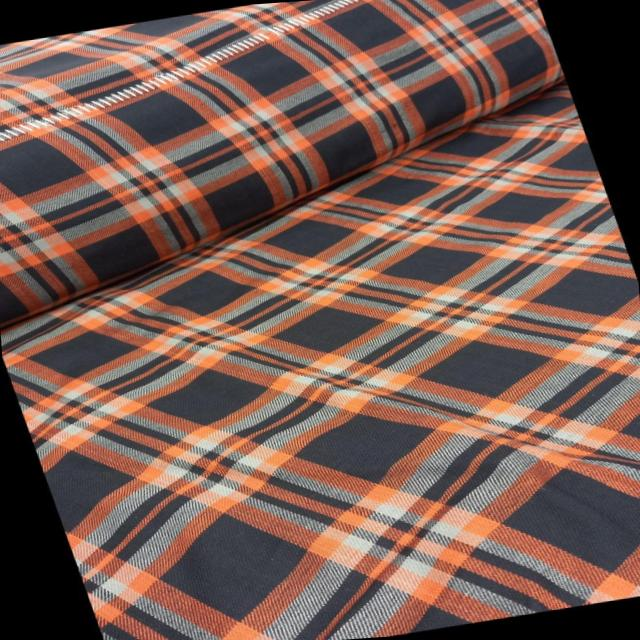gray stitch: (0, 0, 546, 170)
